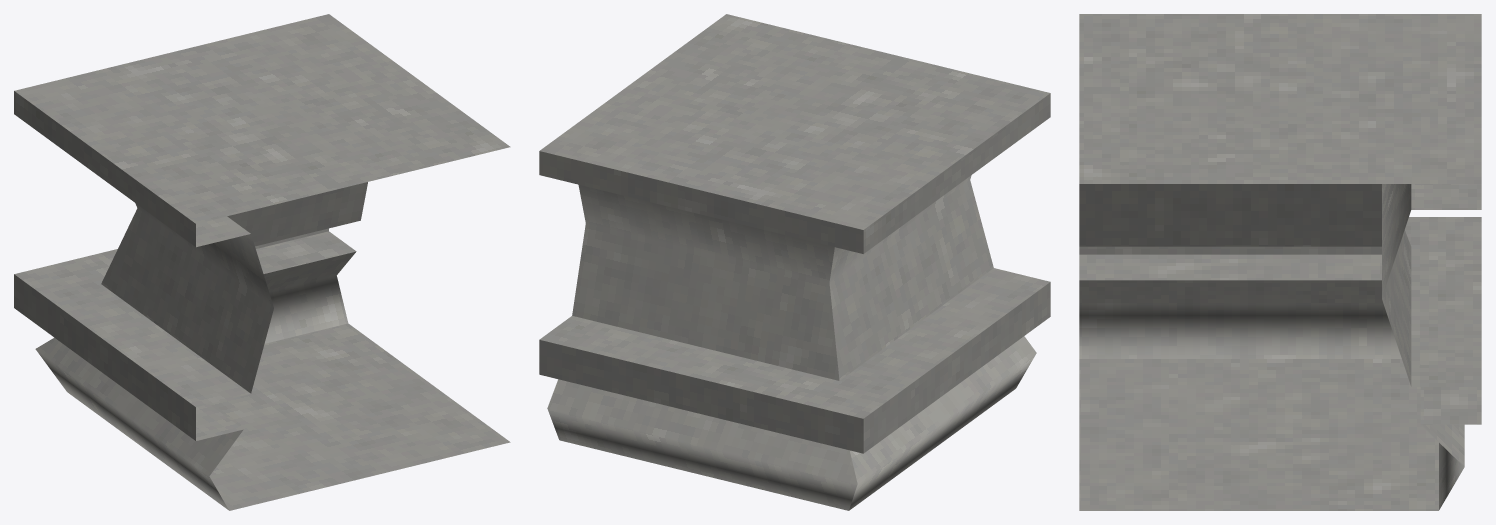
The model's file is GJ_Trim_Corner_01.fbx.
The picture shows the model from 3 angles, left to right: view 1: azimuth 30°, elevation 25°; view 2: azimuth 150°, elevation 25°; view 3: azimuth 270°, elevation 25°; orthographic projection. The views are drawn at different scales.
Visible parts, largest first — view 1: GJ_Trim_Corner_01; view 2: GJ_Trim_Corner_01; view 3: GJ_Trim_Corner_01.
Part boxes in pixels (x1,y1,x2,y2): GJ_Trim_Corner_01: [14, 14, 510, 510]; GJ_Trim_Corner_01: [539, 14, 1050, 510]; GJ_Trim_Corner_01: [1079, 14, 1481, 510].
Size of the model in its own units: 60.61 by 54.31 by 60.61.
